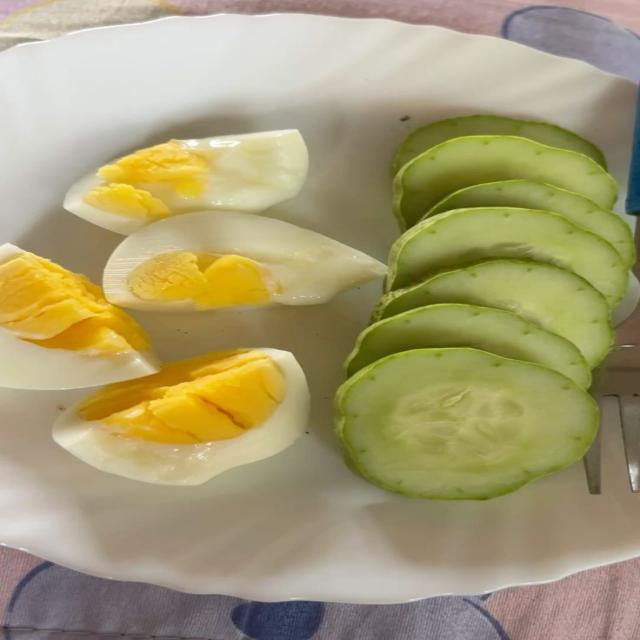cucumber sliced: (336, 348, 597, 500), (371, 260, 611, 369), (385, 207, 627, 309), (343, 303, 590, 389), (394, 136, 617, 230), (420, 180, 635, 268), (390, 114, 606, 176)
egg boiled: (54, 349, 309, 485), (103, 211, 386, 311), (65, 130, 308, 234), (0, 244, 158, 389)
